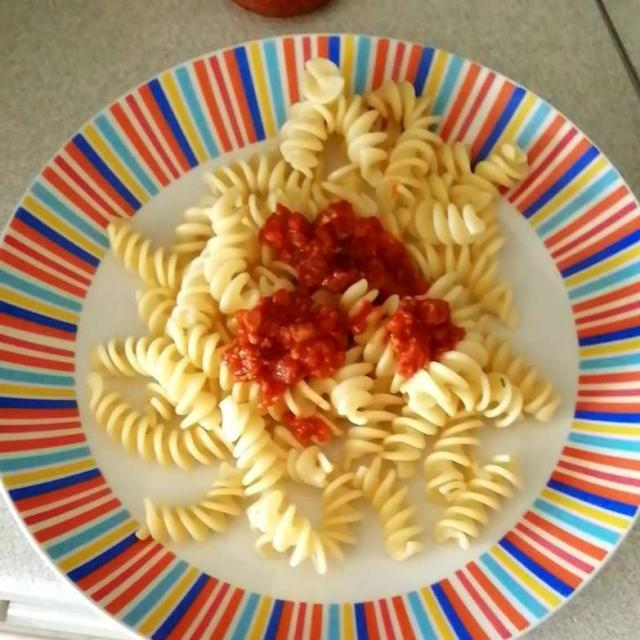pasta: (90, 70, 543, 566)
tomato-sauce: (174, 202, 462, 458)
